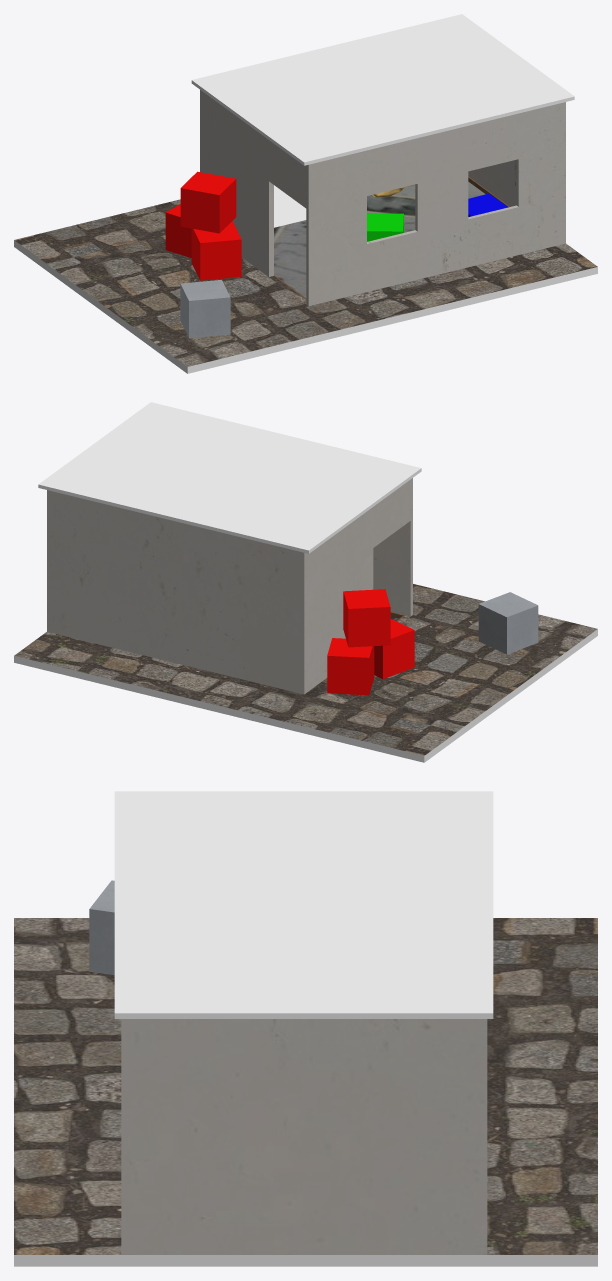
The model's file is presentation_test.glb.
The picture shows the model from 3 angles, top to bottom: view 1: azimuth 30°, elevation 25°; view 2: azimuth 150°, elevation 25°; view 3: azimuth 270°, elevation 25°; orthographic projection. The views are drawn at different scales.
Visible parts, largest first — view 1: Cube, Cube.007, Cube.002, Cube.005, Cube.003, Cube.001, Cube.004, Plane, Cube.006; view 2: Cube, Cube.007, Cube.005, Cube.002, Cube.001, Cube.003; view 3: Cube, Cube.007, Cube.005.
Part boxes in pixels (x1,y1,x2,y2): Cube: (14,90,597,373); Cube.007: (191,14,574,165); Cube.002: (180,171,236,233); Cube.005: (180,280,230,338); Cube.003: (191,222,241,280); Cube.001: (165,204,191,257); Cube.004: (367,213,403,241); Plane: (274,185,306,227); Cube.006: (468,193,508,216); Cube: (14,478,597,762); Cube.007: (38,402,421,553); Cube.005: (478,592,538,654); Cube.002: (343,589,390,647); Cube.001: (327,638,374,695); Cube.003: (374,619,414,679); Cube: (14,918,597,1266); Cube.007: (114,791,493,1018); Cube.005: (89,880,114,975).
Size of the model in its own units: 38.97 by 13.73 by 28.08.
12 materials, 9 textured.
